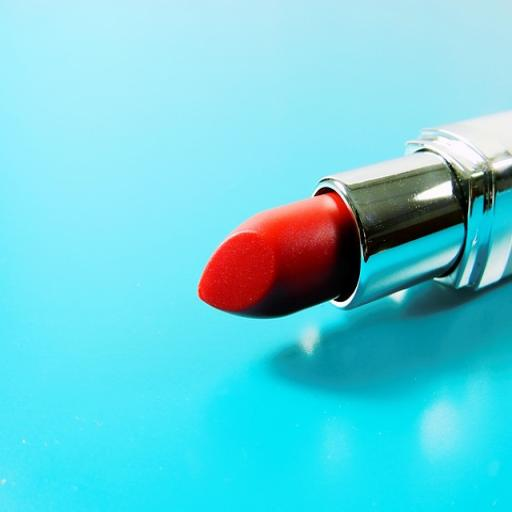lipstick: (199, 111, 511, 316)
